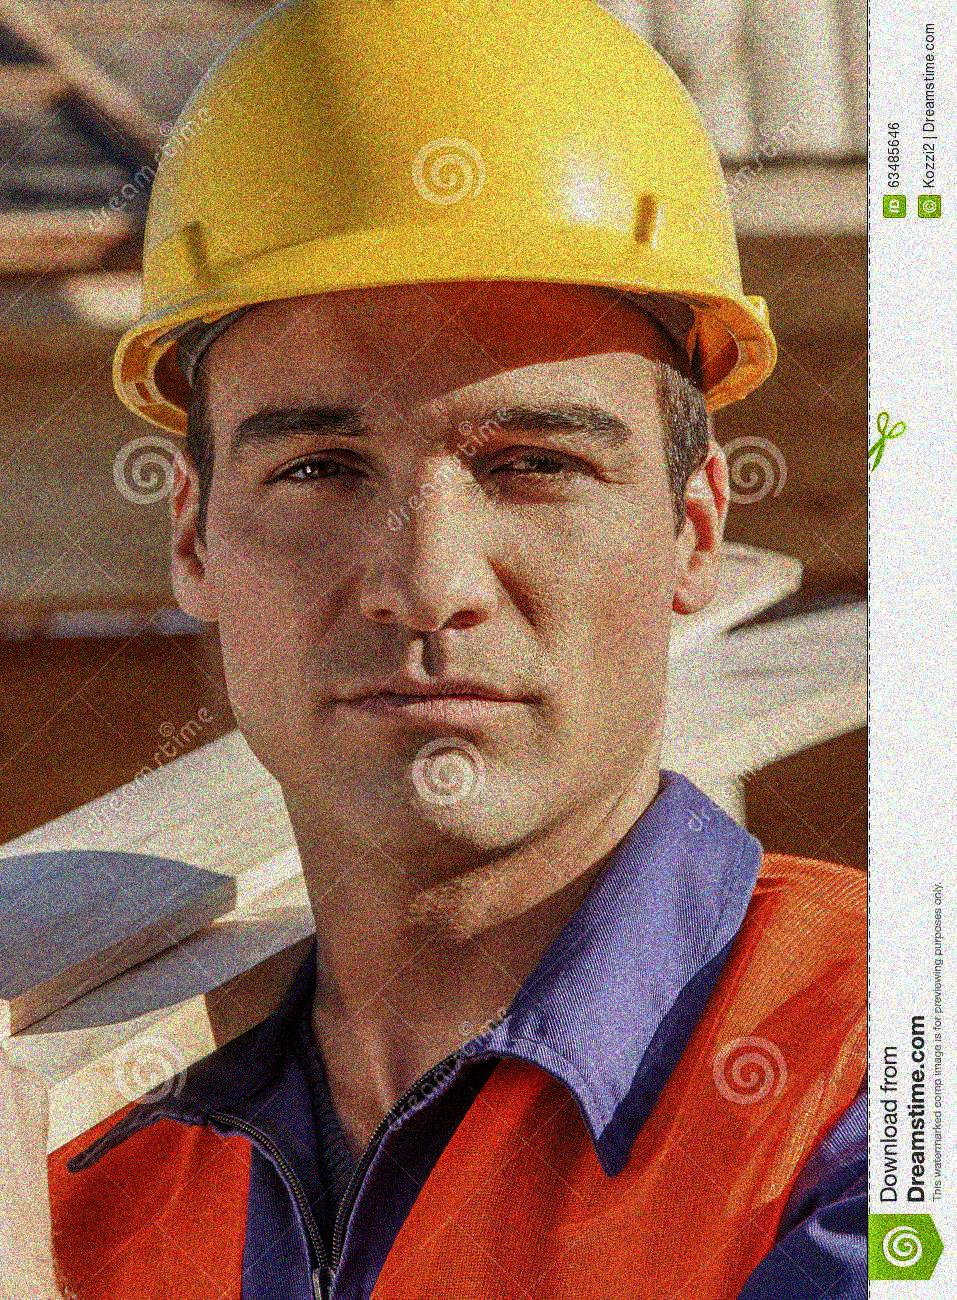helmet: (104, 1, 785, 836)
